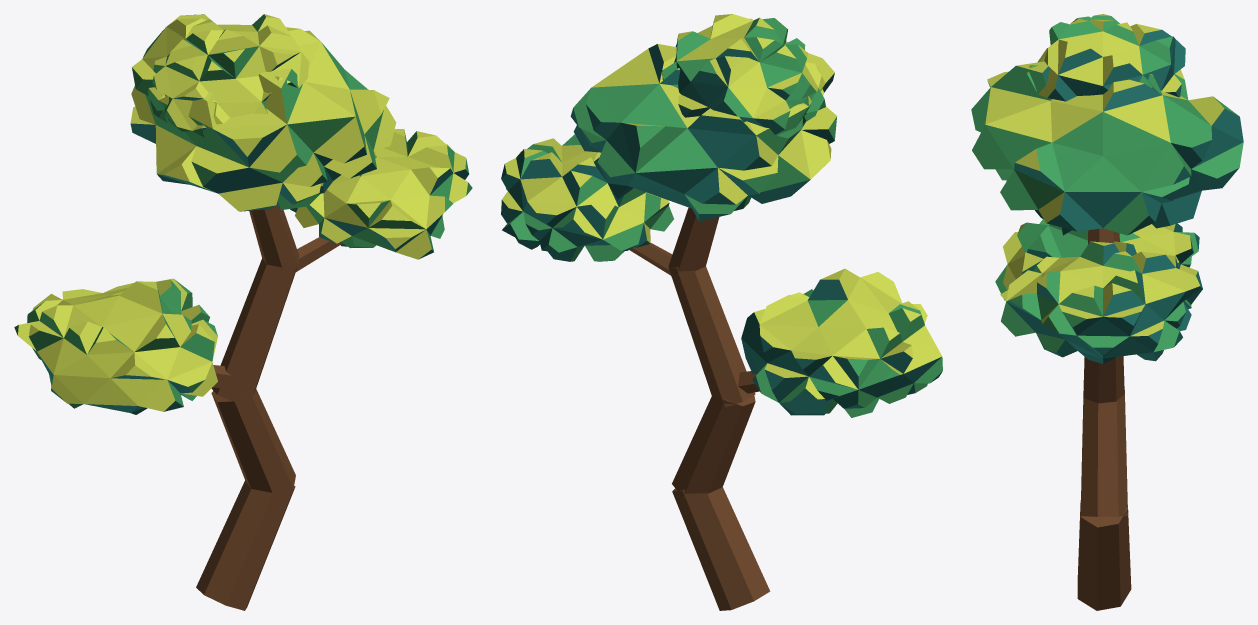
The model's file is Agac_Kivrimli_v2.fbx.
3 renders of one model, left to right at view 1: azimuth 30°, elevation 25°; view 2: azimuth 150°, elevation 25°; view 3: azimuth 270°, elevation 25°, orthographic.
Visible parts, largest first — view 1: Agac_Kivrimli; view 2: Agac_Kivrimli; view 3: Agac_Kivrimli.
Part boxes in pixels (<box>): Agac_Kivrimli: <box>14,14,472,610</box>; Agac_Kivrimli: <box>501,14,942,610</box>; Agac_Kivrimli: <box>971,14,1243,610</box>.
Size of the model in its own units: 221 by 293 by 125.
